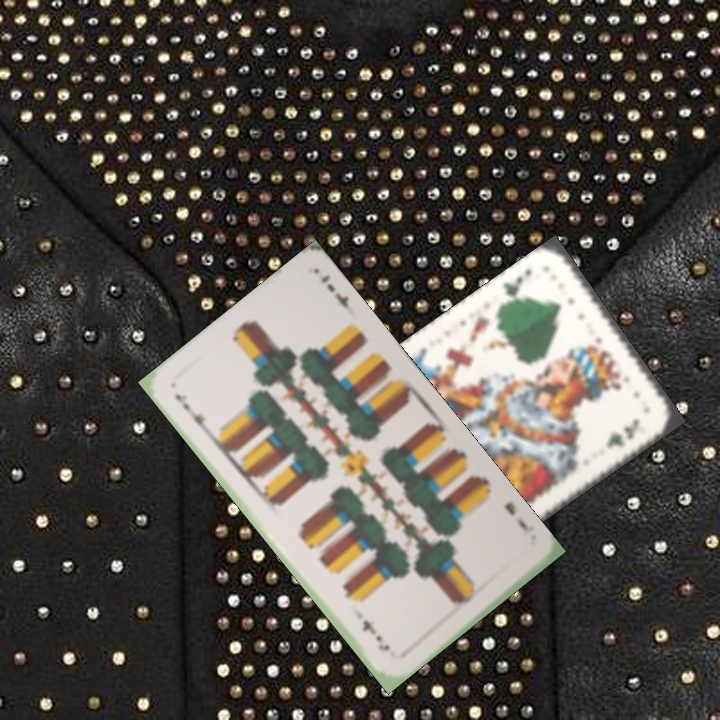E7: (171, 389, 212, 436), (500, 497, 535, 535)
GK: (498, 264, 535, 307)
